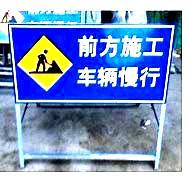sign: (11, 24, 172, 103)
